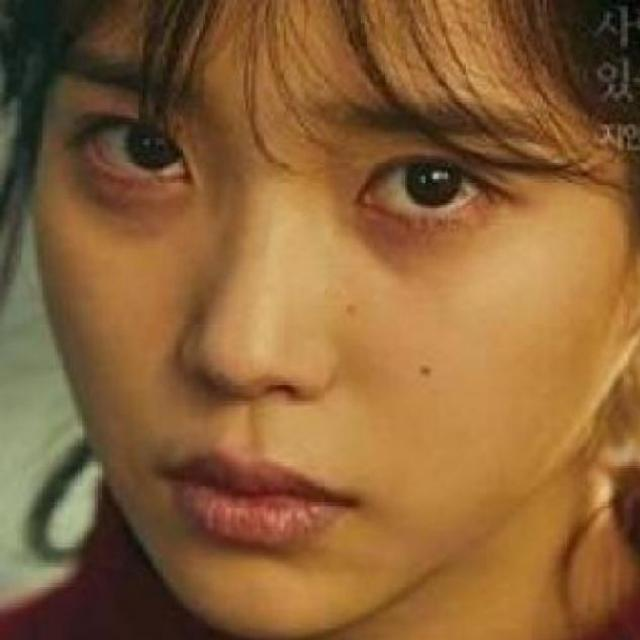Angry: (48, 56, 588, 640)
